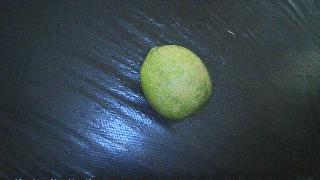DESECHO: (140, 45, 212, 120)
